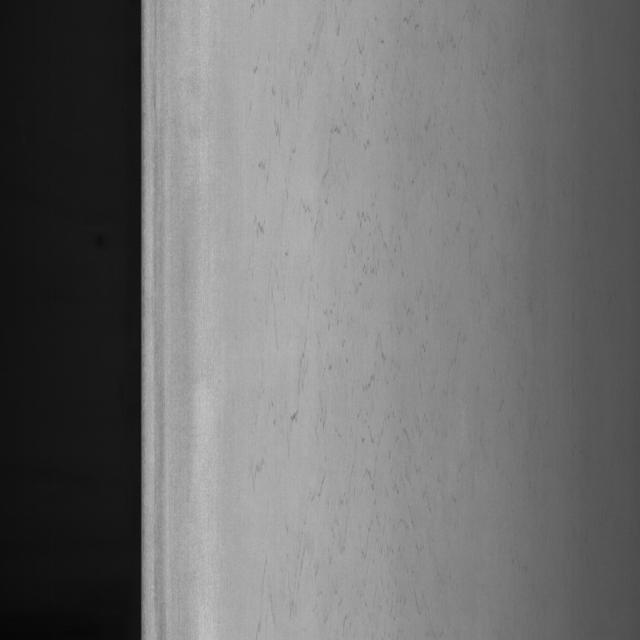inclusion: (258, 46, 423, 572)
